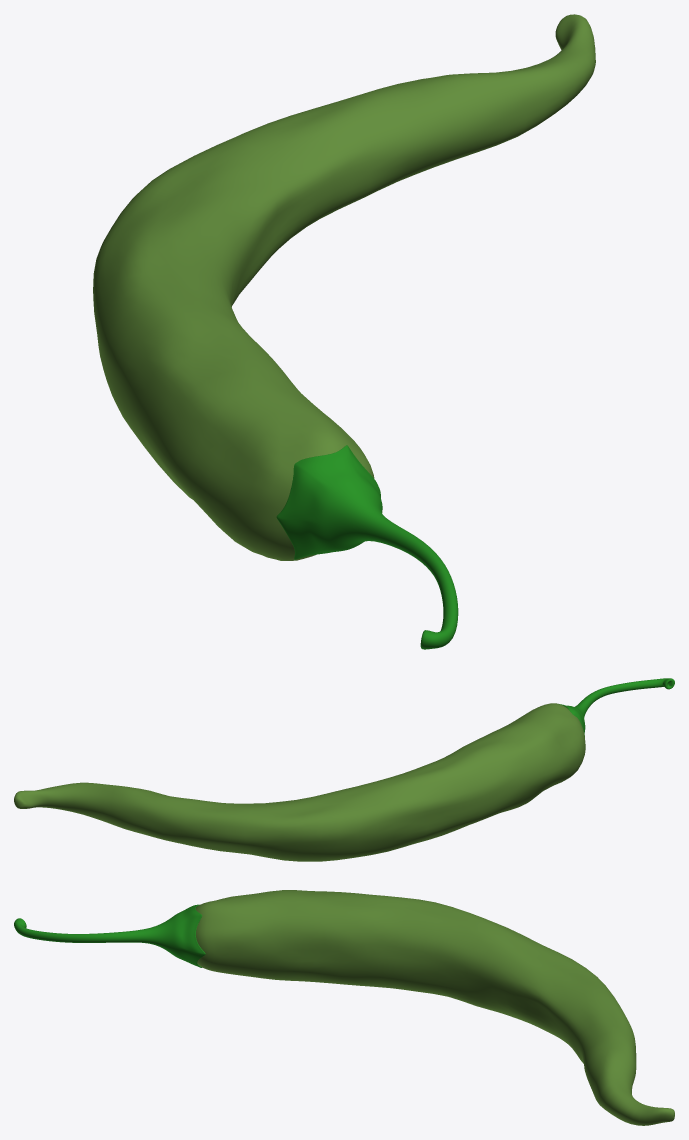
The model's file is 1-chilli.fbx.
The picture shows the model from 3 angles, top to bottom: view 1: azimuth 30°, elevation 25°; view 2: azimuth 150°, elevation 25°; view 3: azimuth 270°, elevation 25°; orthographic projection. The views are drawn at different scales.
Parts seen in each view (by area): view 1: Pepper_Chili_01; view 2: Pepper_Chili_01; view 3: Pepper_Chili_01.
Boxes of the visible parts, x1,y1,x2,y2 form: Pepper_Chili_01: (93,14,595,649); Pepper_Chili_01: (14,678,674,861); Pepper_Chili_01: (14,890,674,1125).
Size of the model in its own units: 751 by 142 by 1025.
